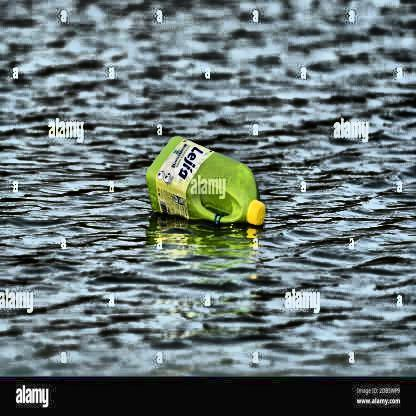plastic bottle: (146, 137, 265, 225)
